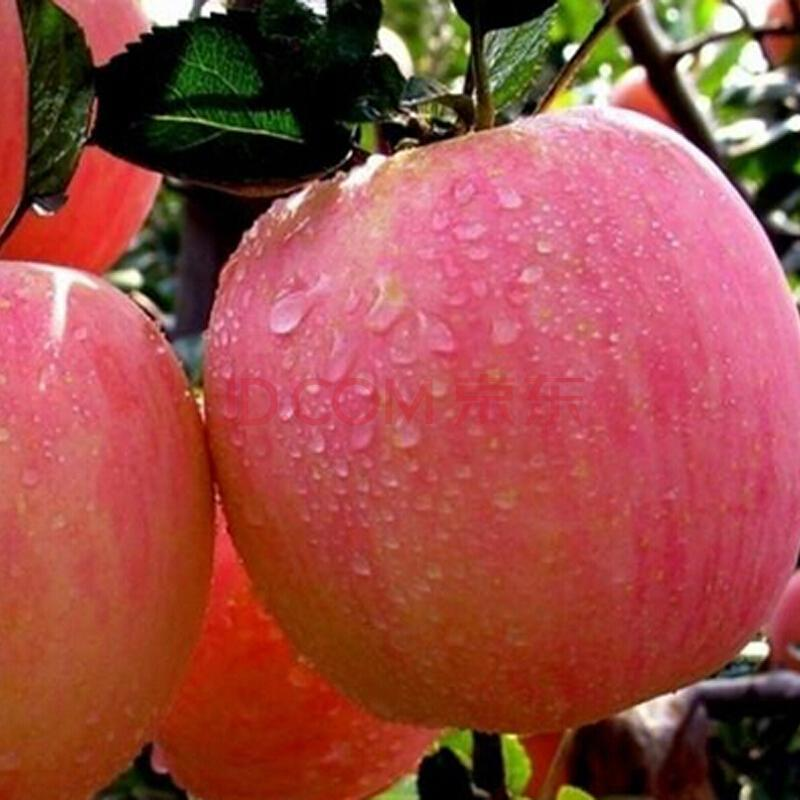apple: (181, 103, 800, 761), (1, 270, 214, 781)
